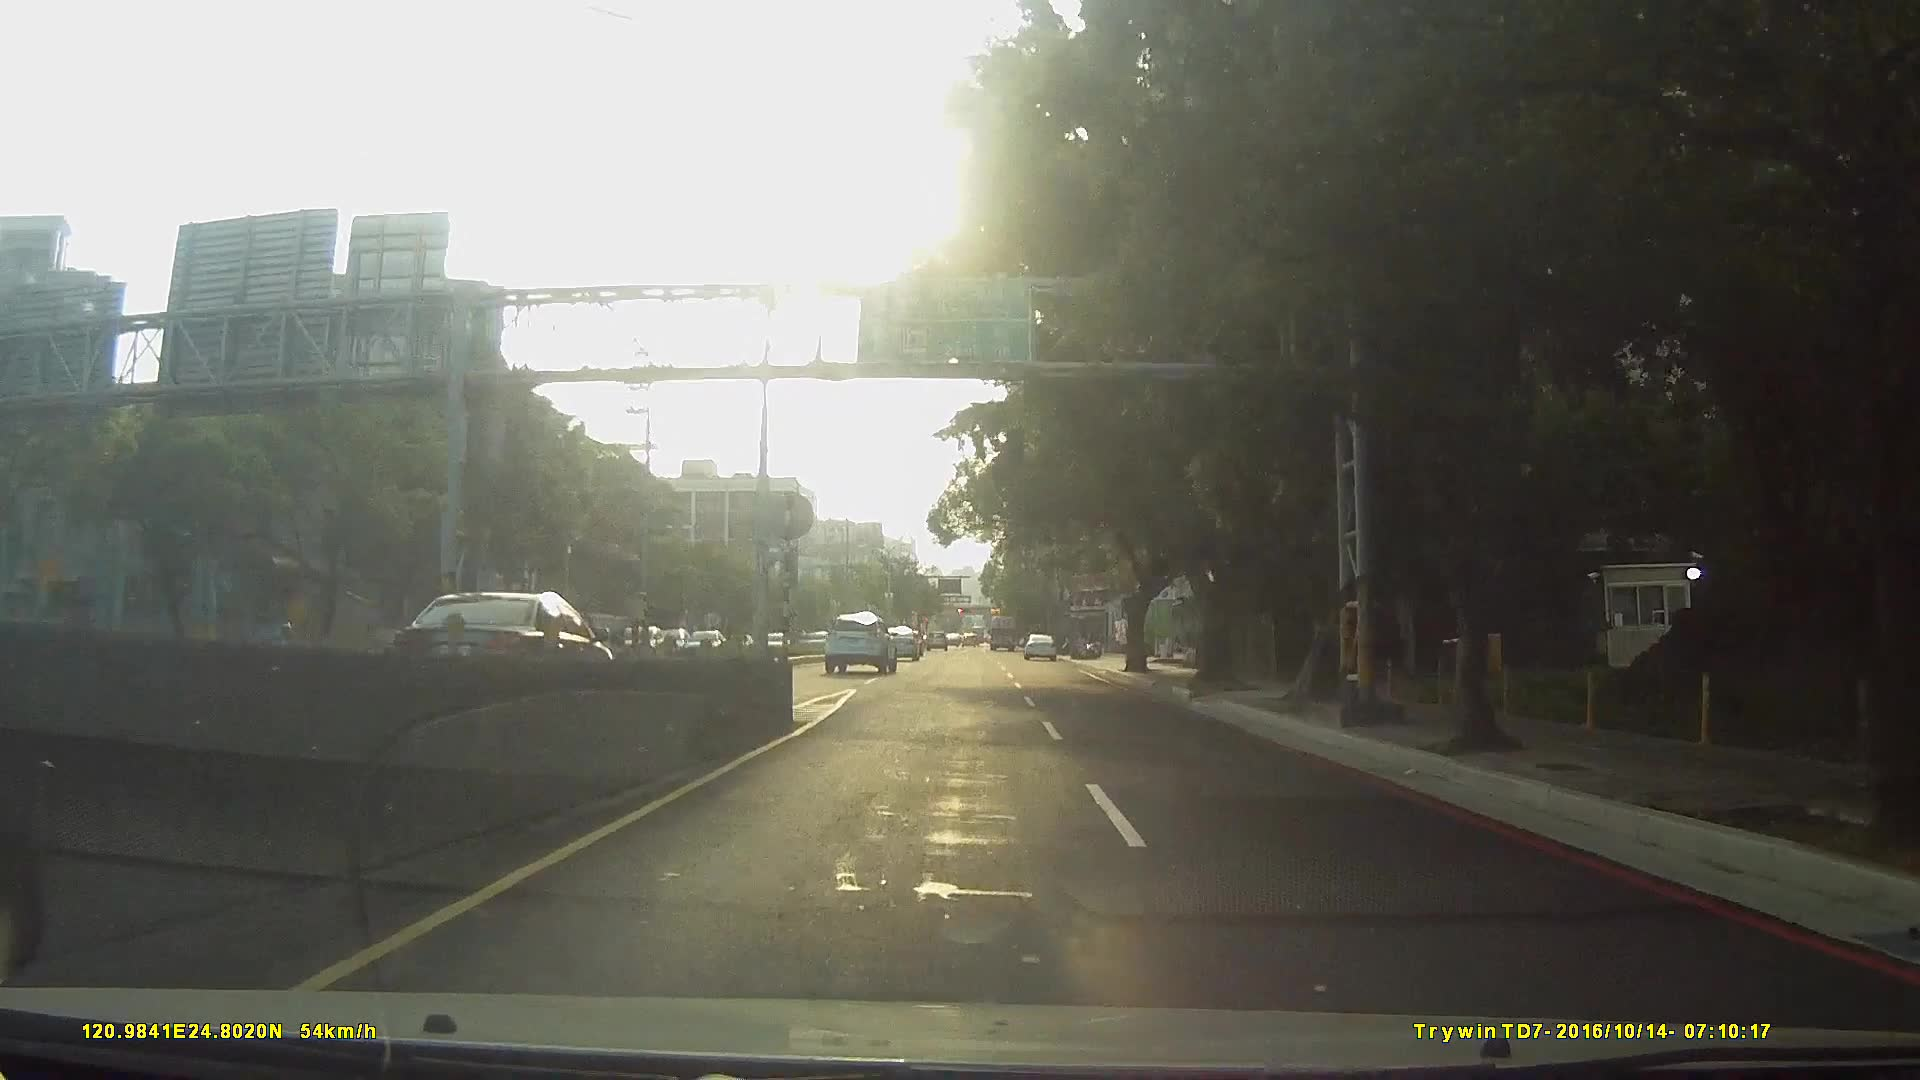vehicle: (393, 589, 615, 696), (822, 611, 895, 676), (877, 624, 920, 659), (986, 611, 1018, 650), (1021, 633, 1058, 661)
